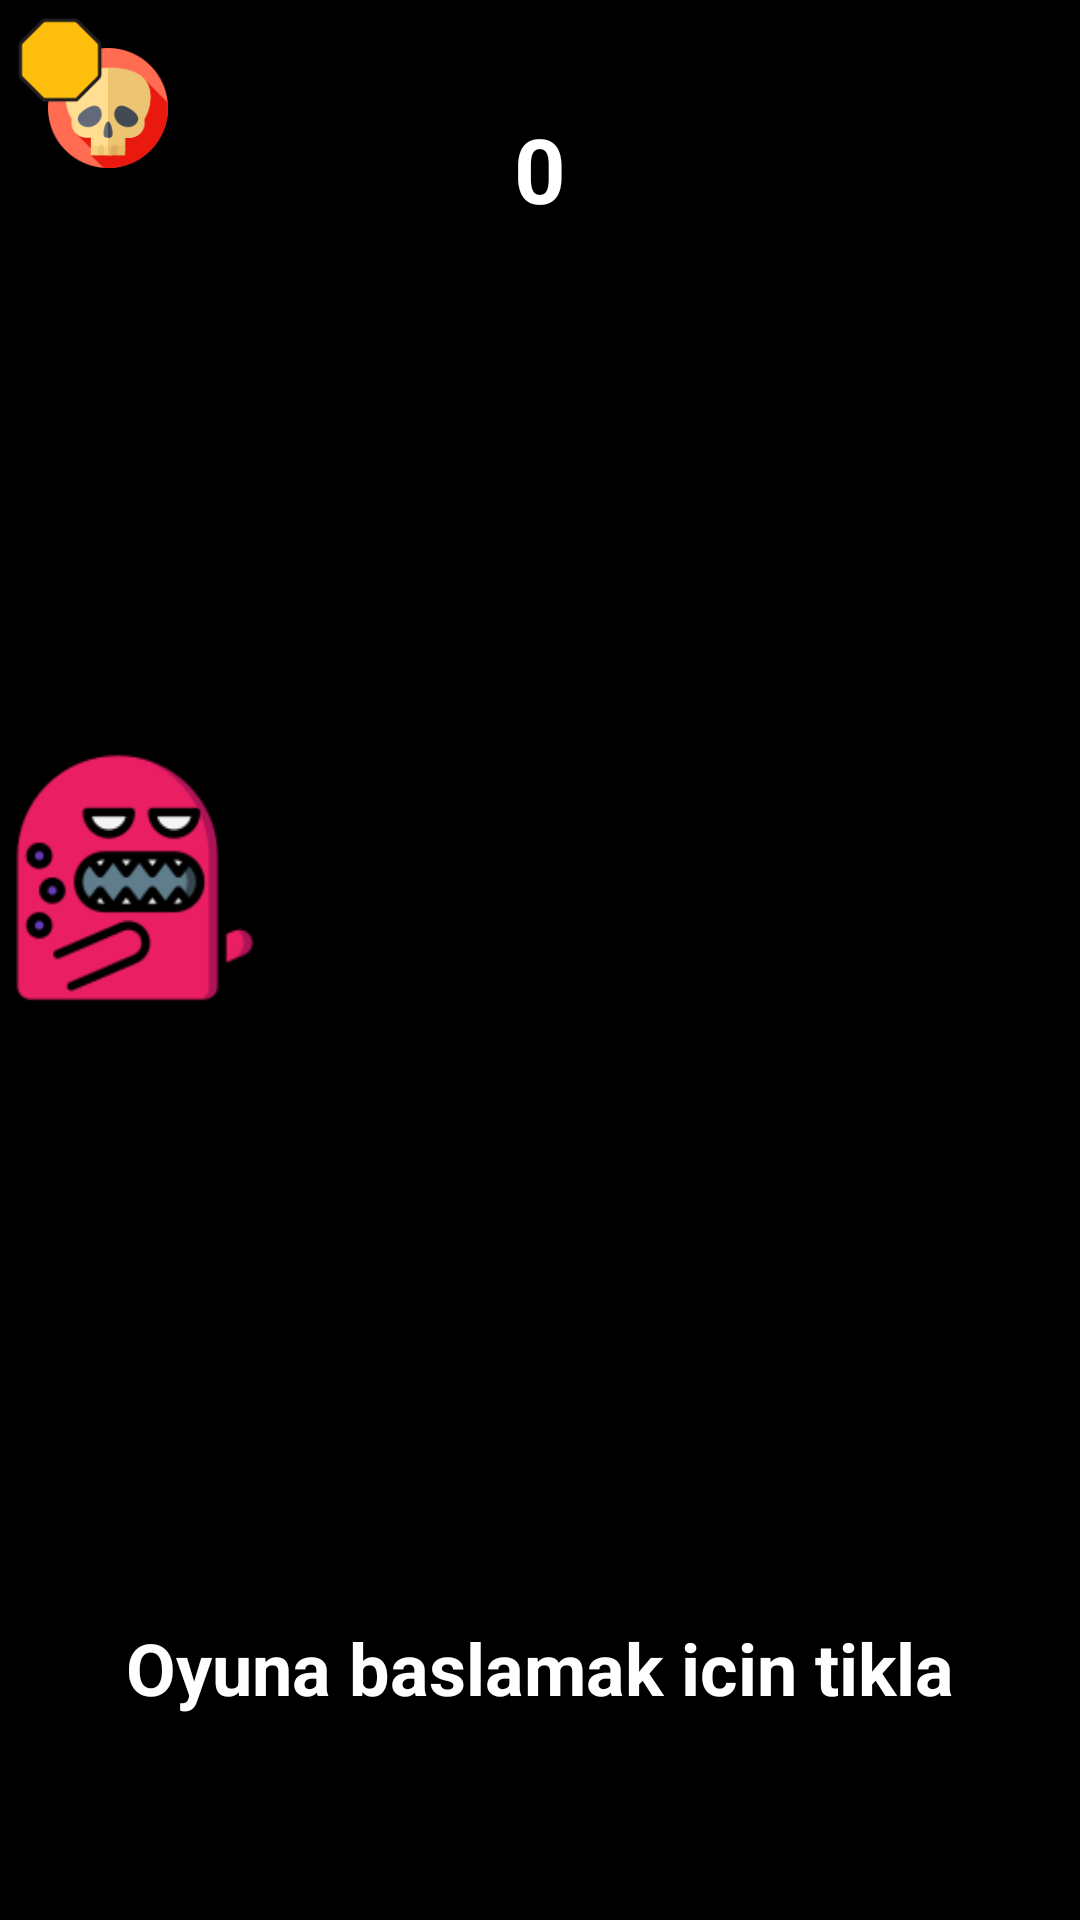

Where to tap for icons on this 1080px x 1920px app screen, as [x,y]:
monster: [135,877]
yellowobject: [60,60]
